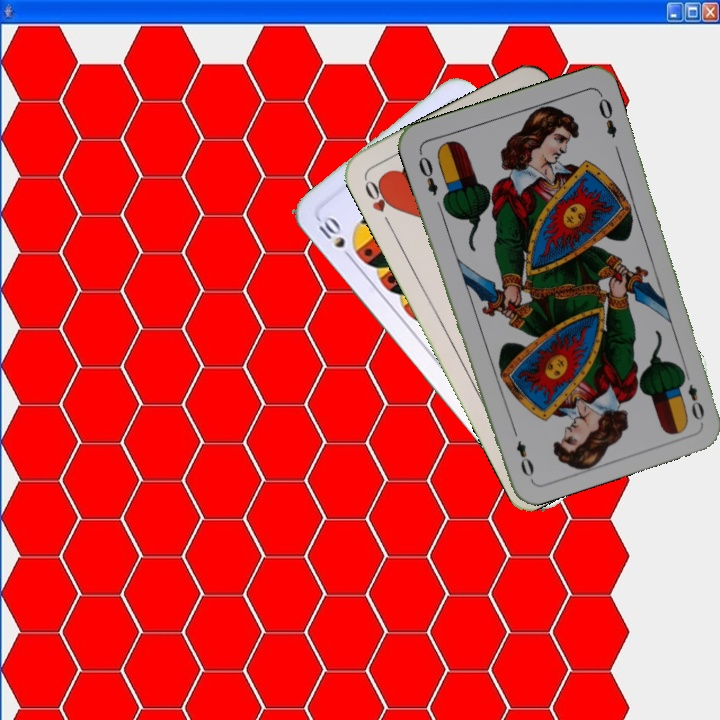EO: (678, 367, 707, 423), (414, 152, 441, 198)
HO: (360, 175, 398, 230)
S10: (314, 212, 356, 264)
